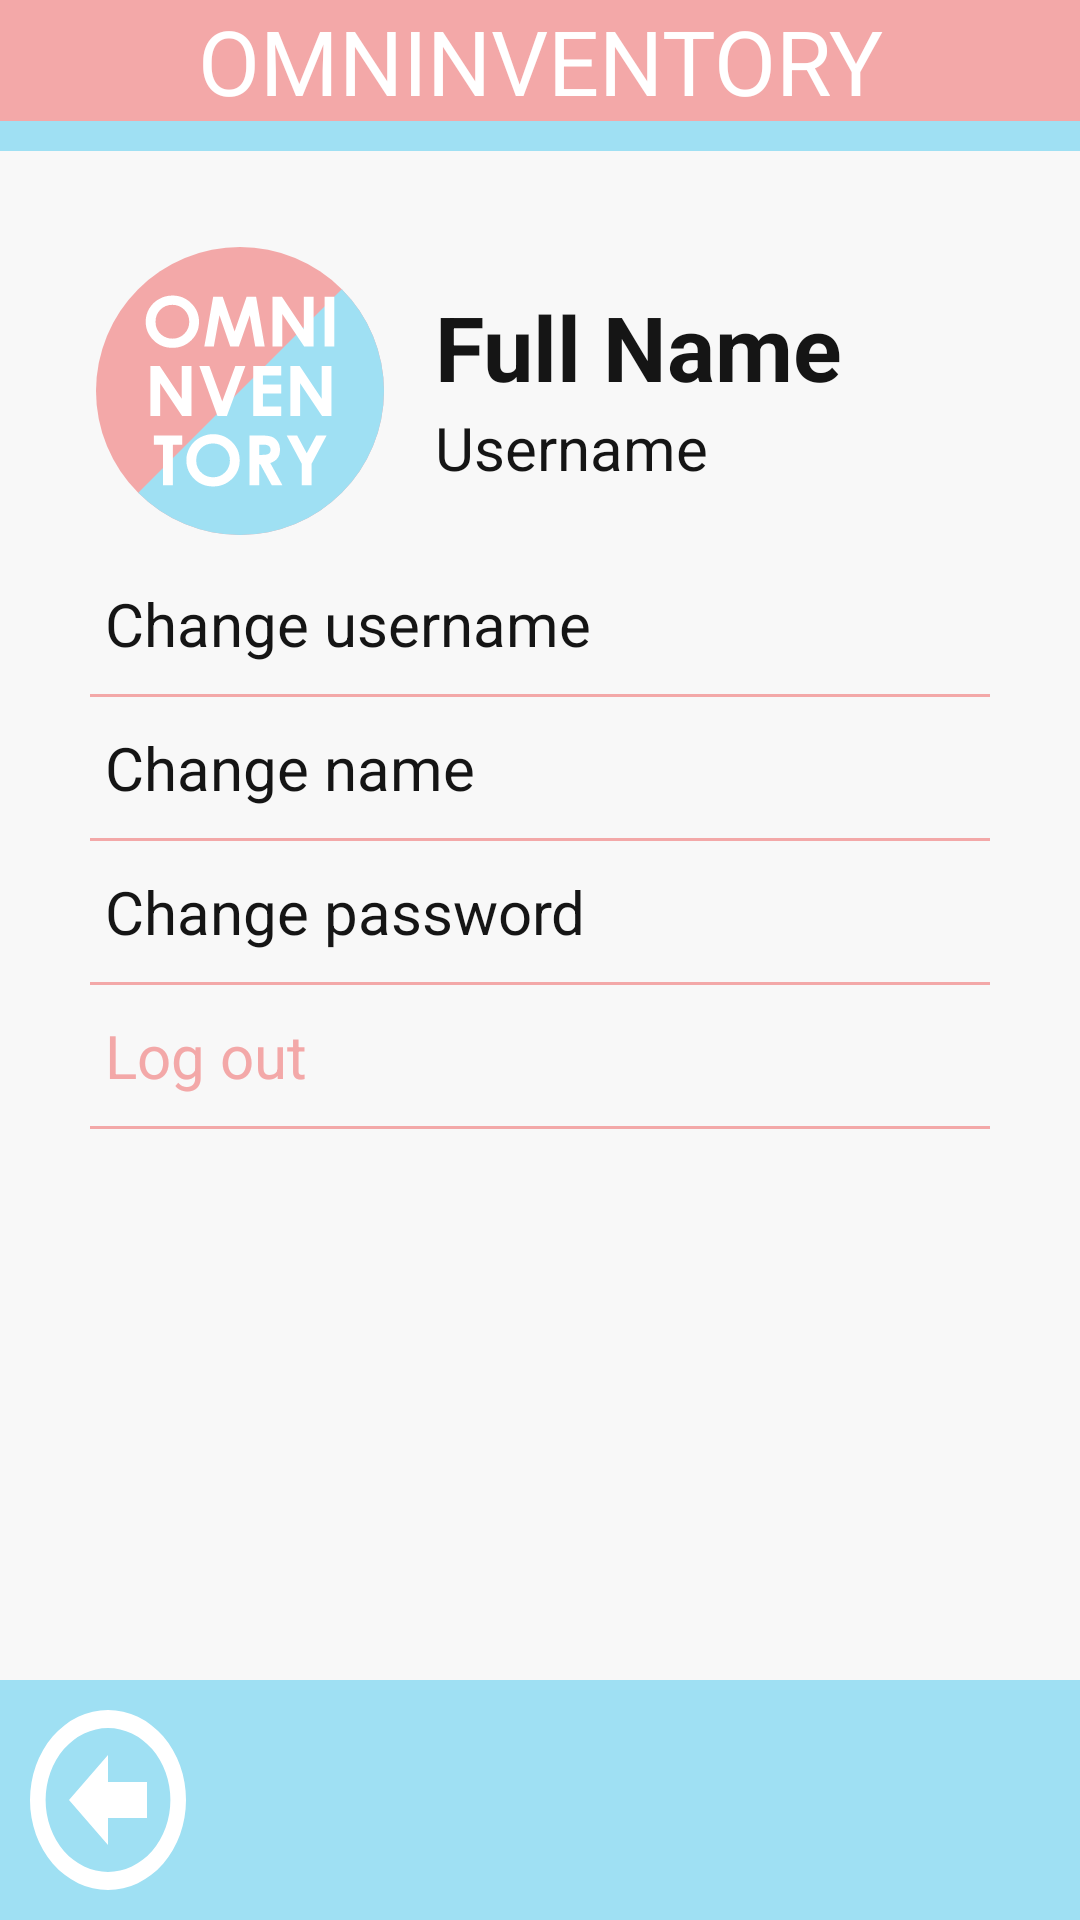

Where to tap for icons on this 1080w x 1920h app screen, as [x,y]:
Back Button: [108,1800]
